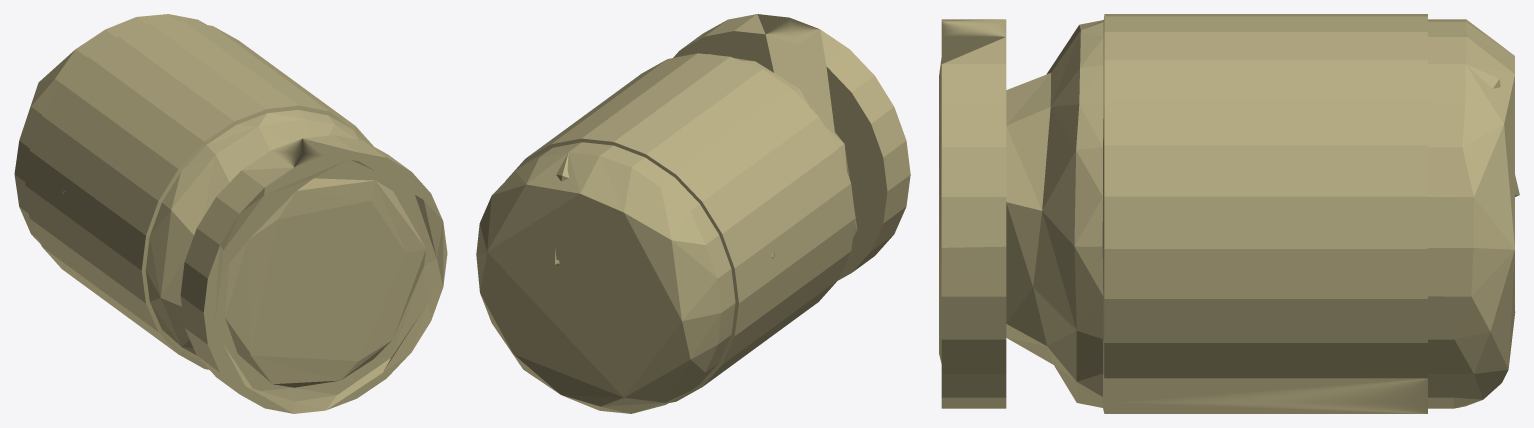
Rendered from model_align.obj.
3 renders of one model, left to right at view 1: azimuth 30°, elevation 25°; view 2: azimuth 150°, elevation 25°; view 3: azimuth 270°, elevation 25°, orthographic. The views are drawn at different scales.
Size of the model in its own units: 0.1423 by 0.1423 by 0.2058.
